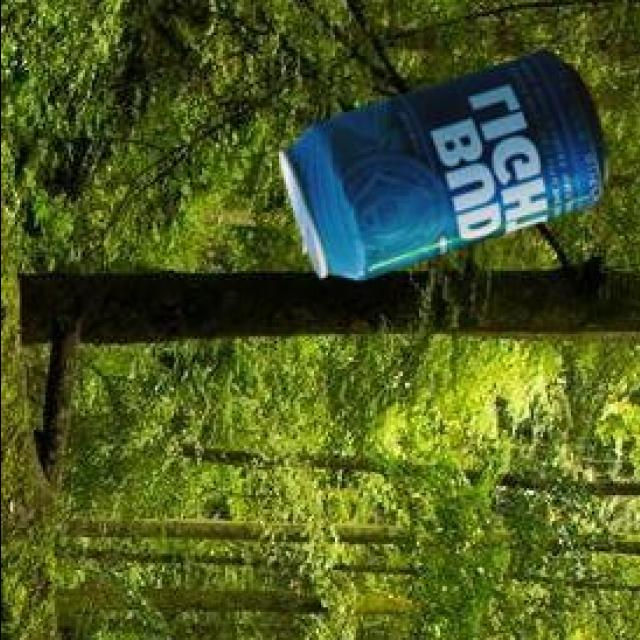logam: (281, 55, 611, 284)
